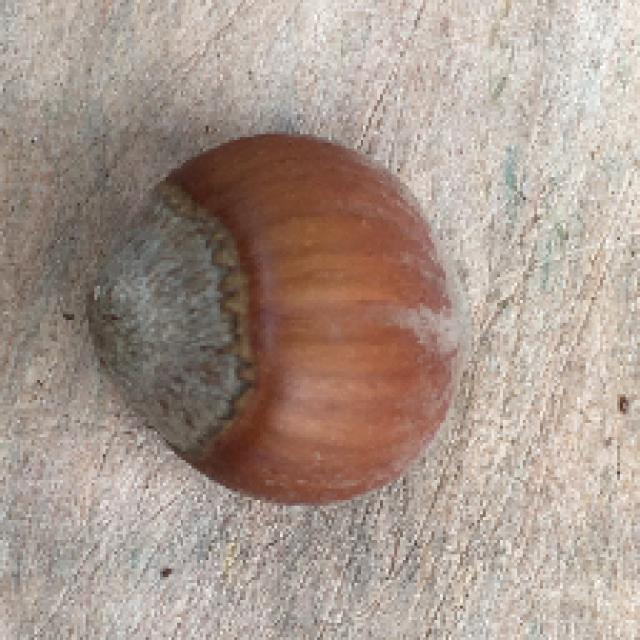qualityHazelnut: (81, 126, 463, 517)
